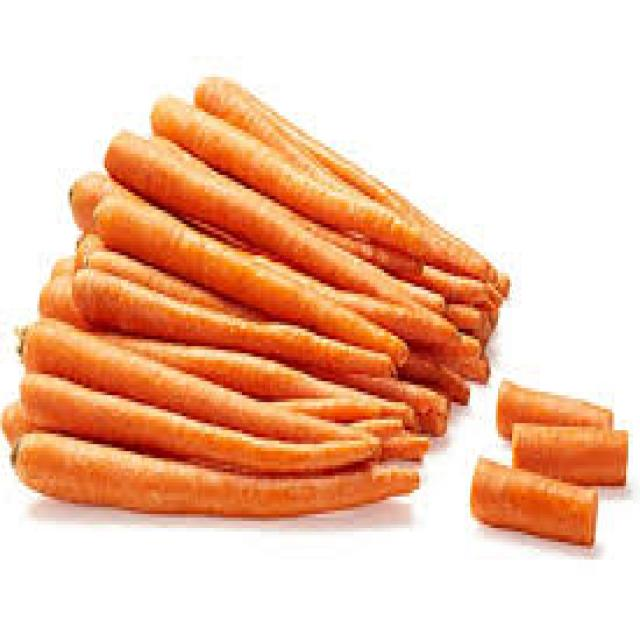Fresh_Carrot: (3, 79, 509, 516), (24, 98, 496, 510)
